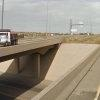Bridge: (0, 39, 83, 78)
